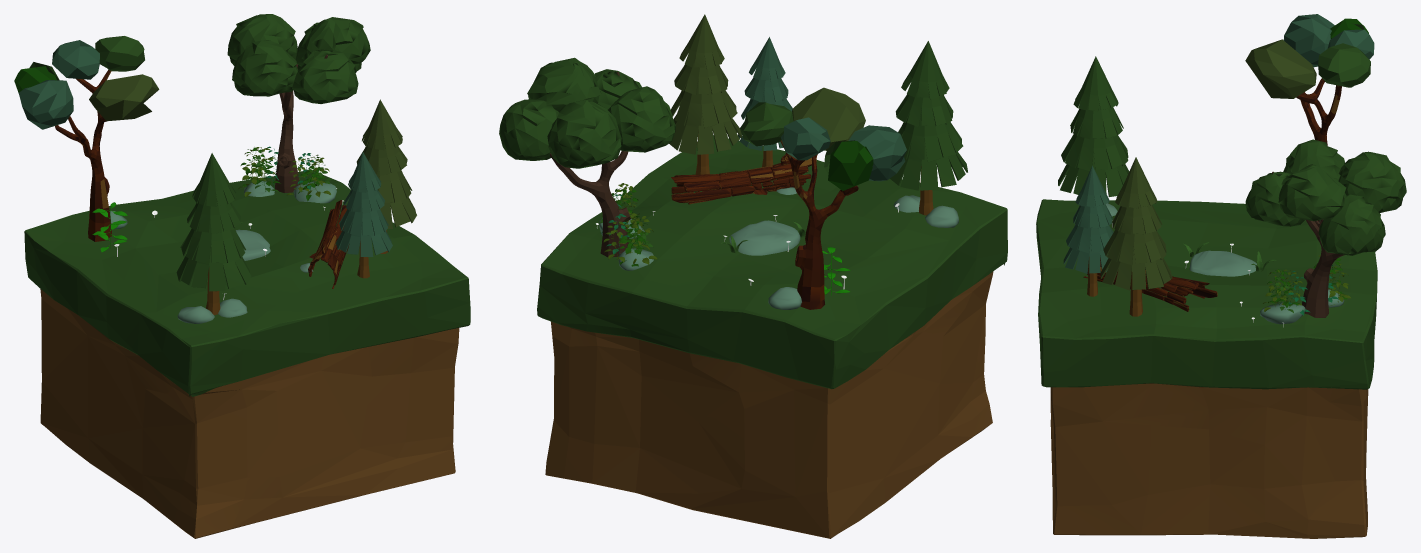
File: tile_tree.gltf
3 views of the same model, side by side, from view 1: azimuth 30°, elevation 25°; view 2: azimuth 150°, elevation 25°; view 3: azimuth 270°, elevation 25° (orthographic). The views are drawn at different scales.
Parts seen in each view (by area): view 1: hill.004, christmas tree.000; view 2: hill.004, christmas tree.000; view 3: hill.004, christmas tree.000.
Boxes of the visible parts, x1,y1,x2,y2 form: hill.004: [24, 170, 470, 538]; christmas tree.000: [14, 14, 416, 323]; hill.004: [537, 135, 1007, 538]; christmas tree.000: [499, 14, 967, 309]; hill.004: [1036, 199, 1377, 538]; christmas tree.000: [1058, 14, 1406, 327].
Size of the model in its own units: 1.32 by 1.38 by 1.18.
